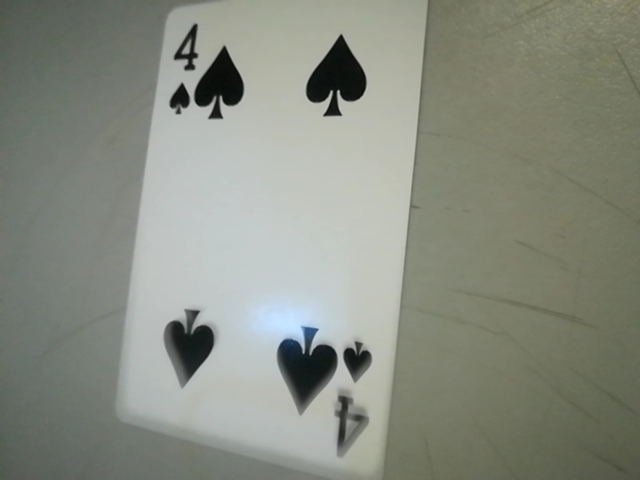ht 4: (321, 323, 384, 478)
